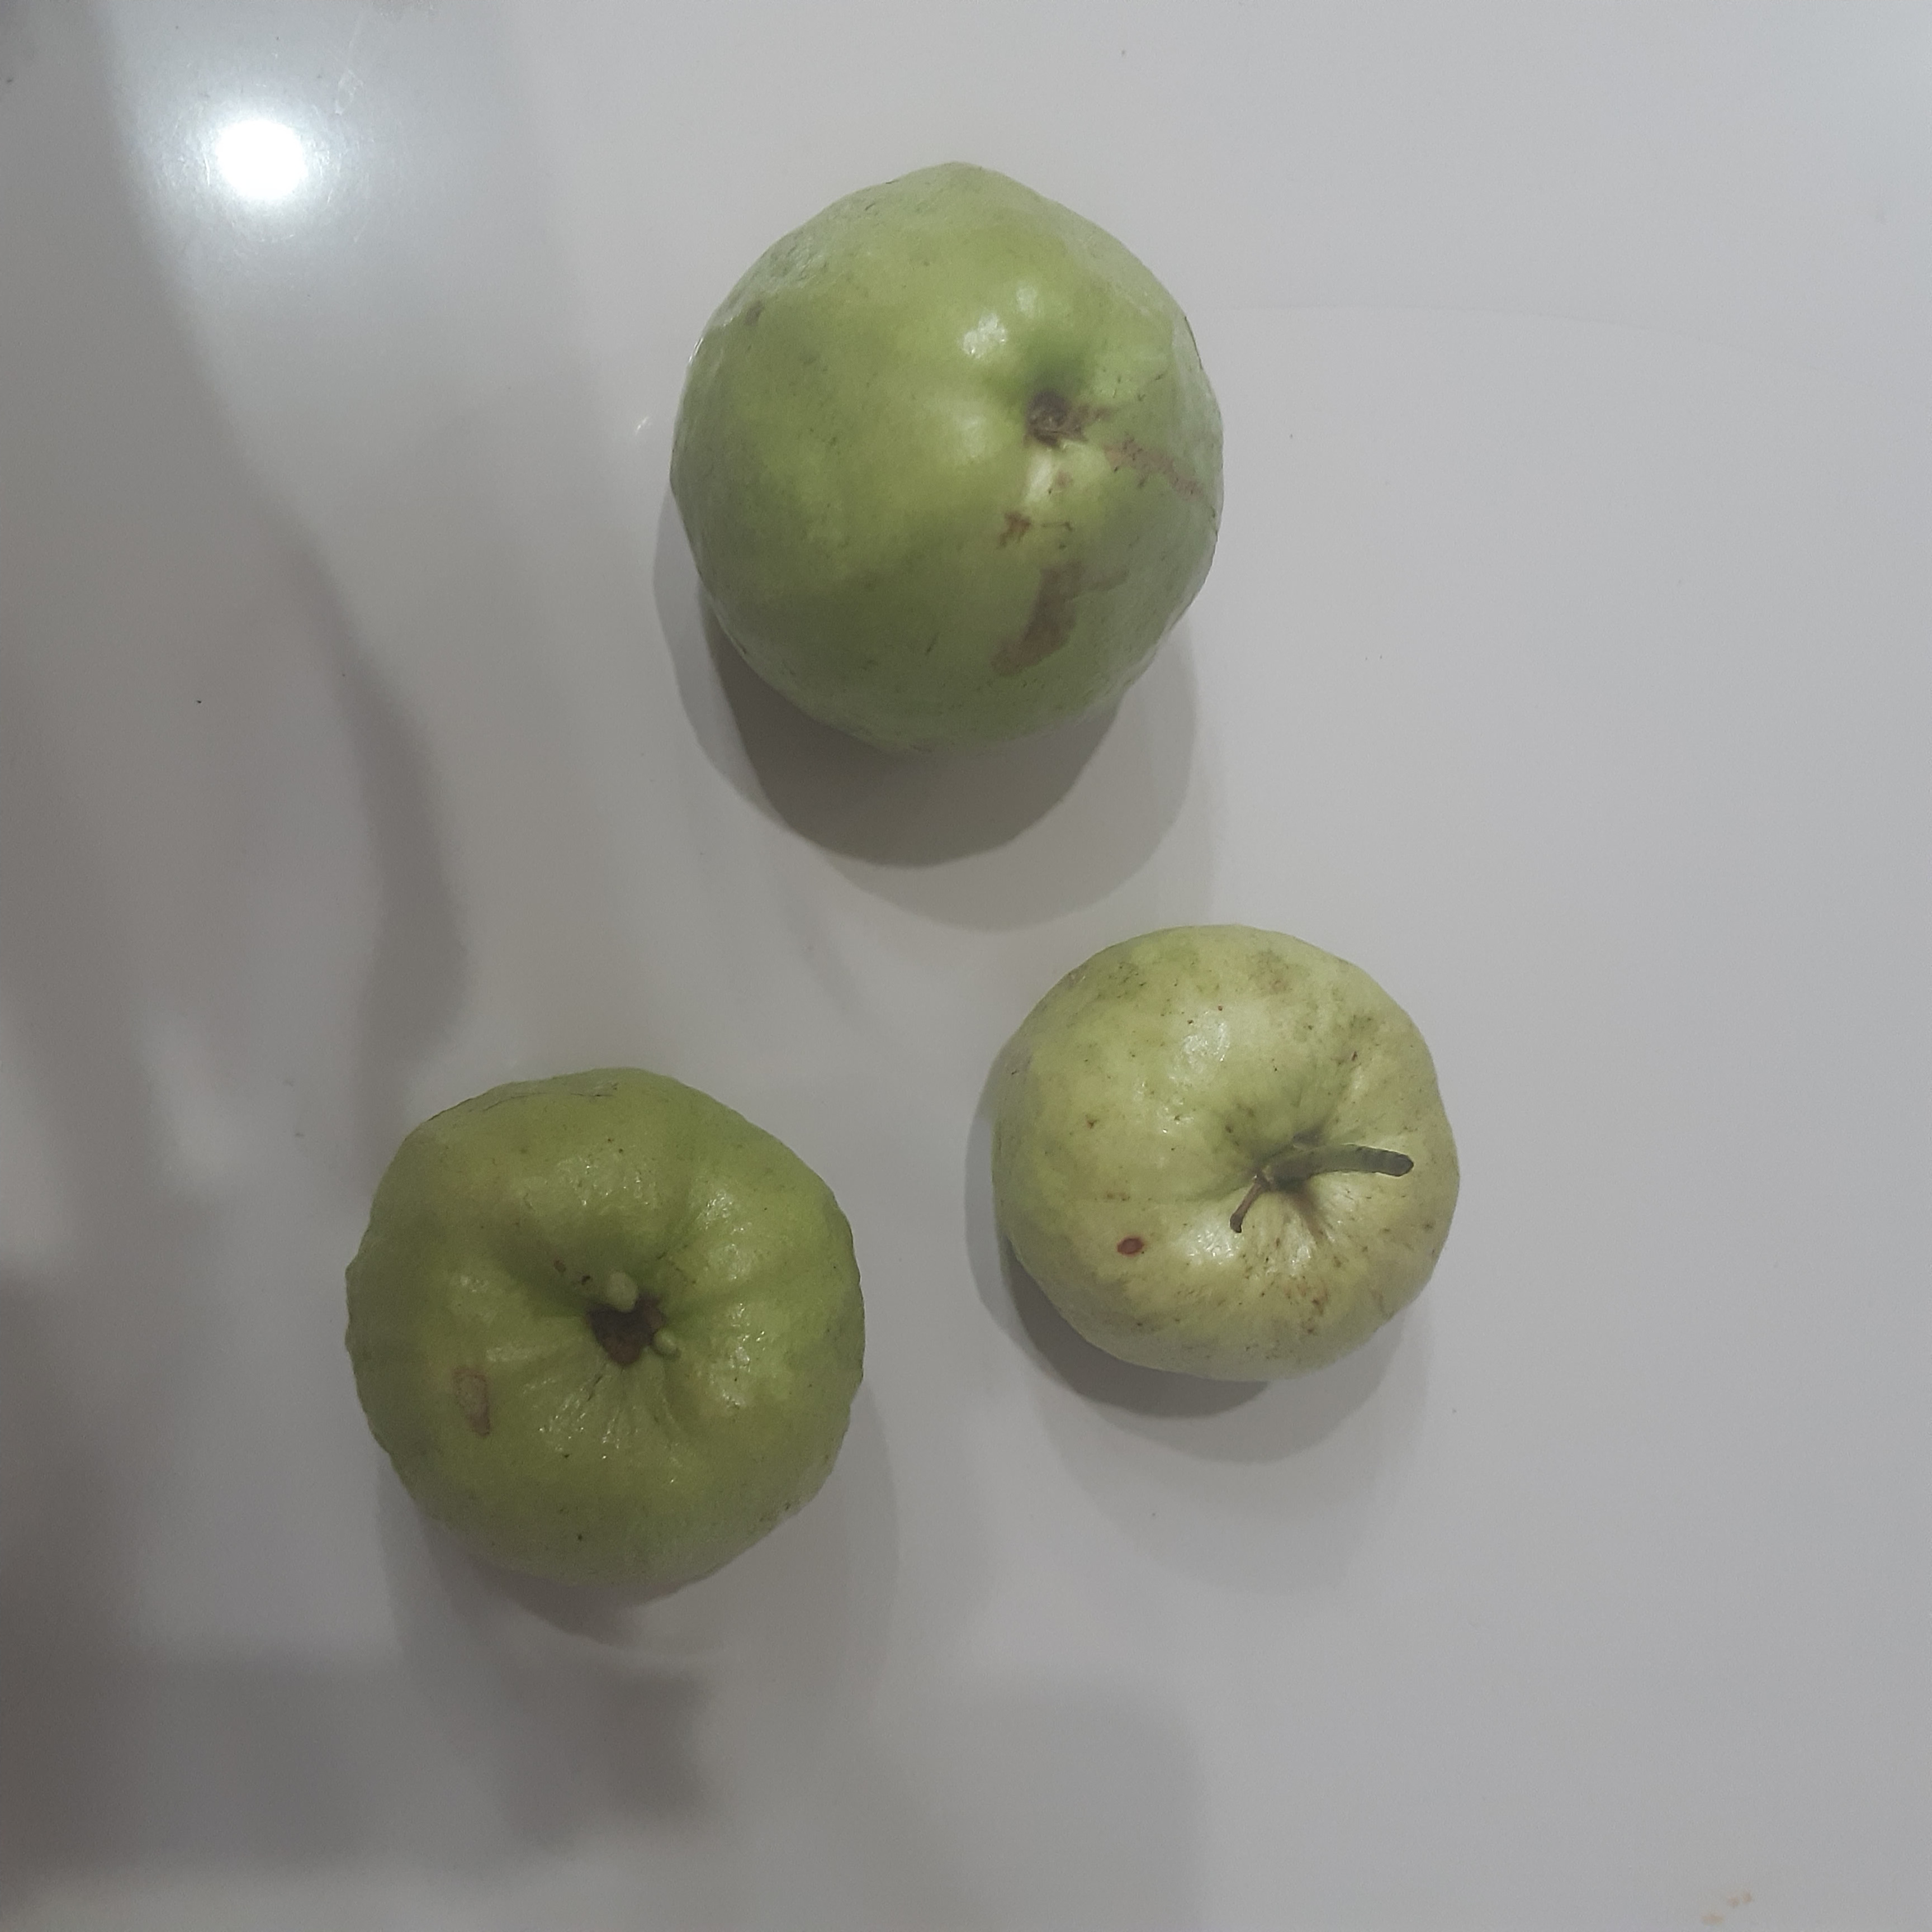Oi: (667, 163, 1226, 764), (340, 1062, 869, 1599), (989, 920, 1463, 1389)
